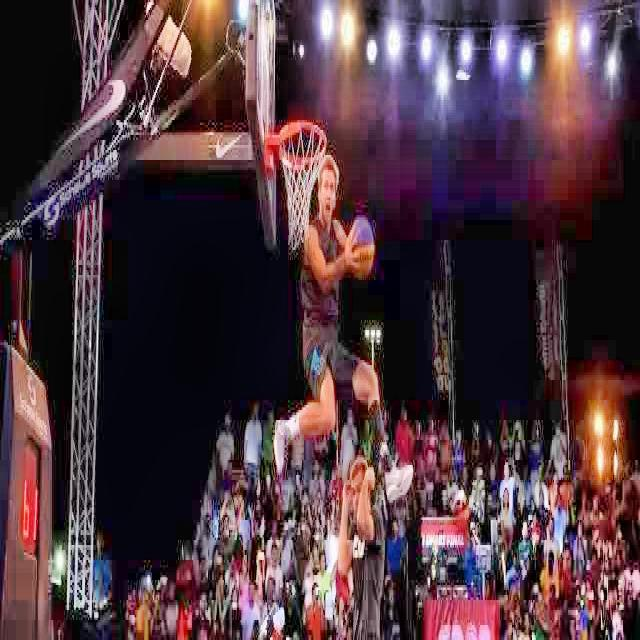rim: (279, 121, 325, 246)
